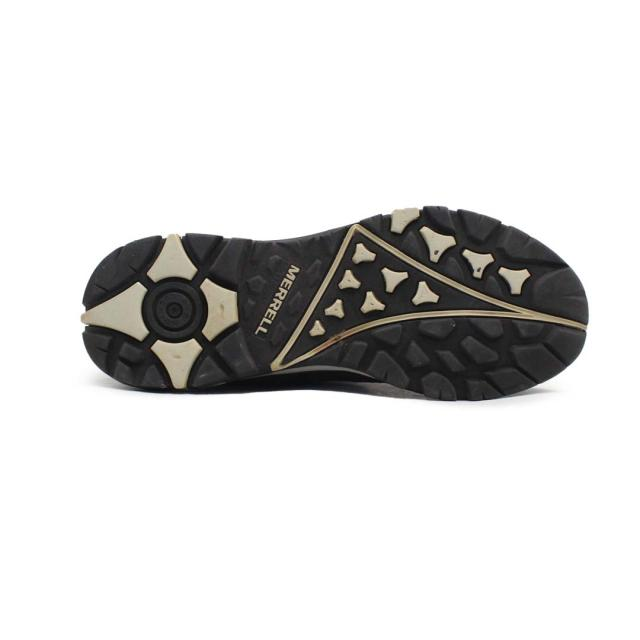outersole: (81, 205, 589, 403)
